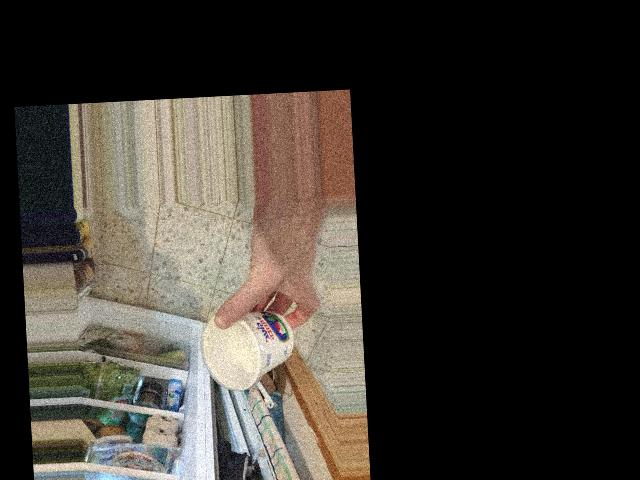cotage: (202, 306, 295, 385)
